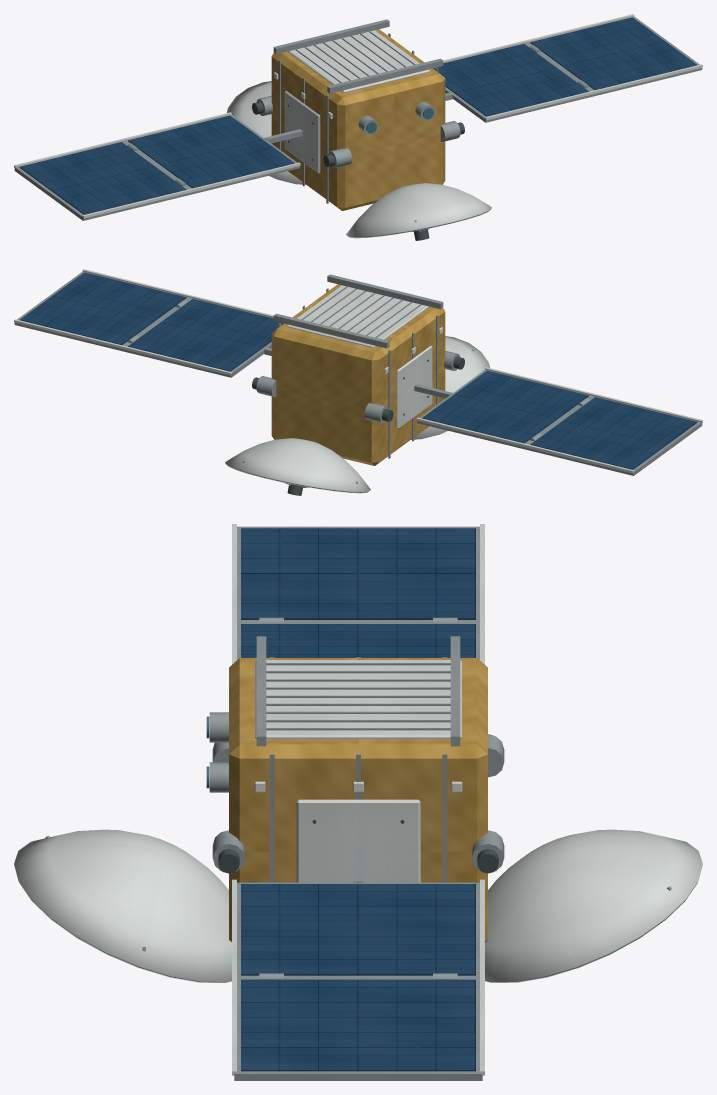
Rendered from RelaySatelliteRig.fbx.
The picture shows the model from 3 angles, top to bottom: view 1: azimuth 30°, elevation 25°; view 2: azimuth 150°, elevation 25°; view 3: azimuth 270°, elevation 25°; orthographic projection. The views are drawn at different scales.
Parts seen in each view (by area): view 1: Bus_RigMesh, SolarPort_RigMesh, SolarStarboard_RigMesh, DishFore_RigMesh, DishAft_RigMesh; view 2: Bus_RigMesh, SolarPort_RigMesh, SolarStarboard_RigMesh, DishAft_RigMesh, DishFore_RigMesh; view 3: Bus_RigMesh, SolarStarboard_RigMesh, SolarPort_RigMesh, DishFore_RigMesh, DishAft_RigMesh.
Boxes of the visible parts, <box> form: Bus_RigMesh: <box>252,19,464,210</box>; SolarPort_RigMesh: <box>14,112,302,220</box>; SolarStarboard_RigMesh: <box>433,14,702,122</box>; DishFore_RigMesh: <box>346,183,491,240</box>; DishAft_RigMesh: <box>227,81,305,184</box>; Bus_RigMesh: <box>252,274,464,465</box>; SolarPort_RigMesh: <box>414,367,702,475</box>; SolarStarboard_RigMesh: <box>14,269,283,377</box>; DishAft_RigMesh: <box>225,438,370,495</box>; DishFore_RigMesh: <box>411,336,489,439</box>; Bus_RigMesh: <box>206,636,504,942</box>; SolarStarboard_RigMesh: <box>232,850,484,1080</box>; SolarPort_RigMesh: <box>232,524,484,664</box>; DishFore_RigMesh: <box>14,829,231,982</box>; DishAft_RigMesh: <box>485,829,702,982</box>.
Size of the model in its own units: 1200 by 276 by 639.
